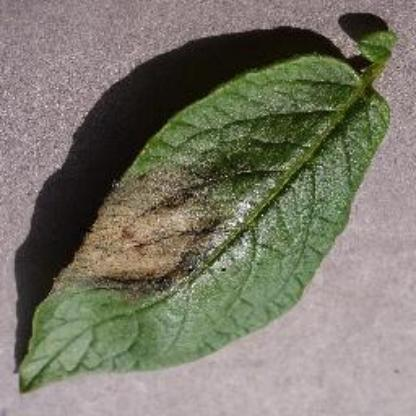Late-Blight: (17, 45, 393, 395)
